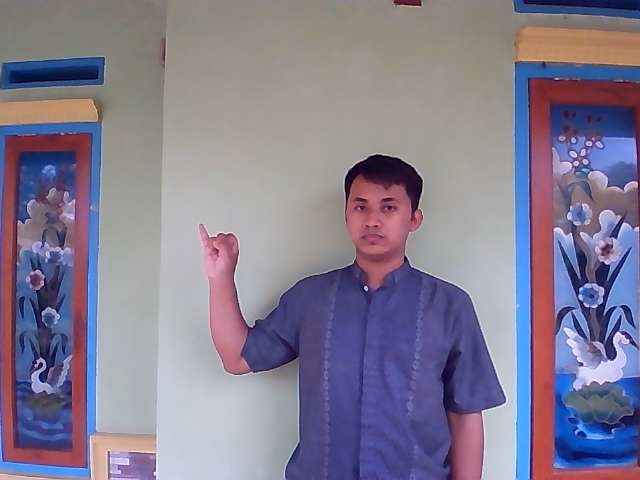I: (197, 222, 238, 272)
